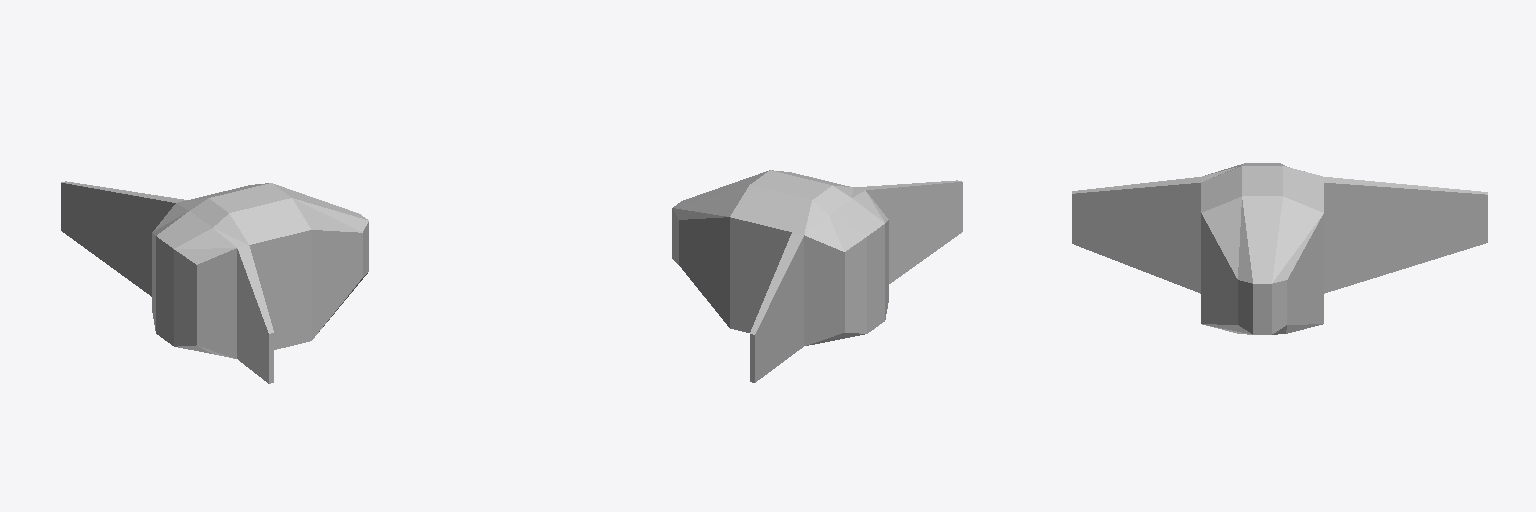
Rendered from simple_ship1.obj.
3 renders of one model, left to right at view 1: azimuth 30°, elevation 25°; view 2: azimuth 150°, elevation 25°; view 3: azimuth 270°, elevation 25°, orthographic.
Visible parts, largest first — view 1: Cube; view 2: Cube; view 3: Cube.
Part boxes in pixels (x1,y1,x2,y2): Cube: (61,181,368,383); Cube: (672,170,962,382); Cube: (1072,163,1487,334).
Bounding box in the file's own units: 3.75 × 2.44 × 6.78.